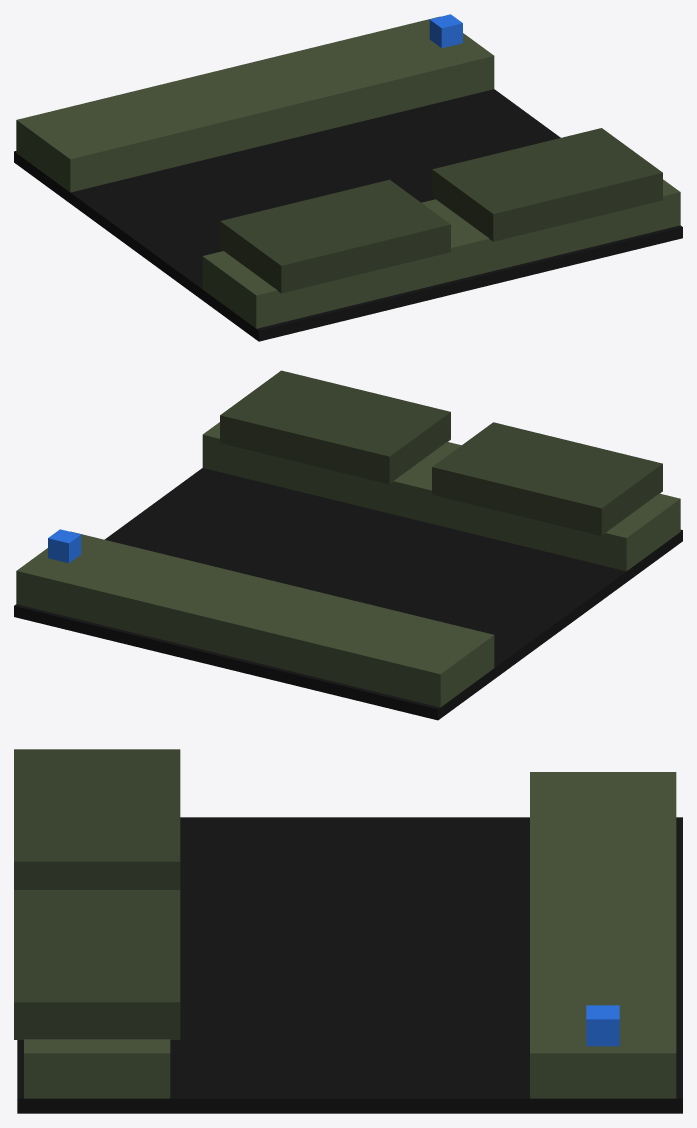
The model's file is kp_minefield.glb.
3 renders of one model, top to bottom at view 1: azimuth 30°, elevation 25°; view 2: azimuth 150°, elevation 25°; view 3: azimuth 270°, elevation 25°, orthographic. The views are drawn at different scales.
Parts seen in each view (by area): view 1: base, wall_1, wall_0, sandbag_1, sandbag_0, team_post; view 2: base, wall_1, wall_0, sandbag_0, sandbag_1, team_post; view 3: base, wall_1, sandbag_1, sandbag_0, wall_0, team_post.
Part boxes in pixels (box(x1,y1,x2,y2)): base: box(14, 89, 682, 341); wall_1: box(16, 16, 494, 192); wall_0: box(202, 179, 680, 328); sandbag_1: box(432, 128, 662, 241); sandbag_0: box(220, 179, 450, 293); team_post: box(429, 14, 462, 48); base: box(14, 468, 682, 720); wall_1: box(16, 531, 494, 707); wall_0: box(202, 422, 680, 571); sandbag_0: box(432, 422, 662, 535); sandbag_1: box(220, 370, 450, 484); team_post: box(48, 529, 81, 563); base: box(17, 817, 682, 1113); wall_1: box(530, 772, 676, 1098); sandbag_1: box(14, 890, 180, 1039); sandbag_0: box(14, 749, 180, 889); wall_0: box(24, 1039, 170, 1098); team_post: box(586, 1005, 619, 1046).
Size of the model in its own units: 4 by 0.645 by 4.02.
